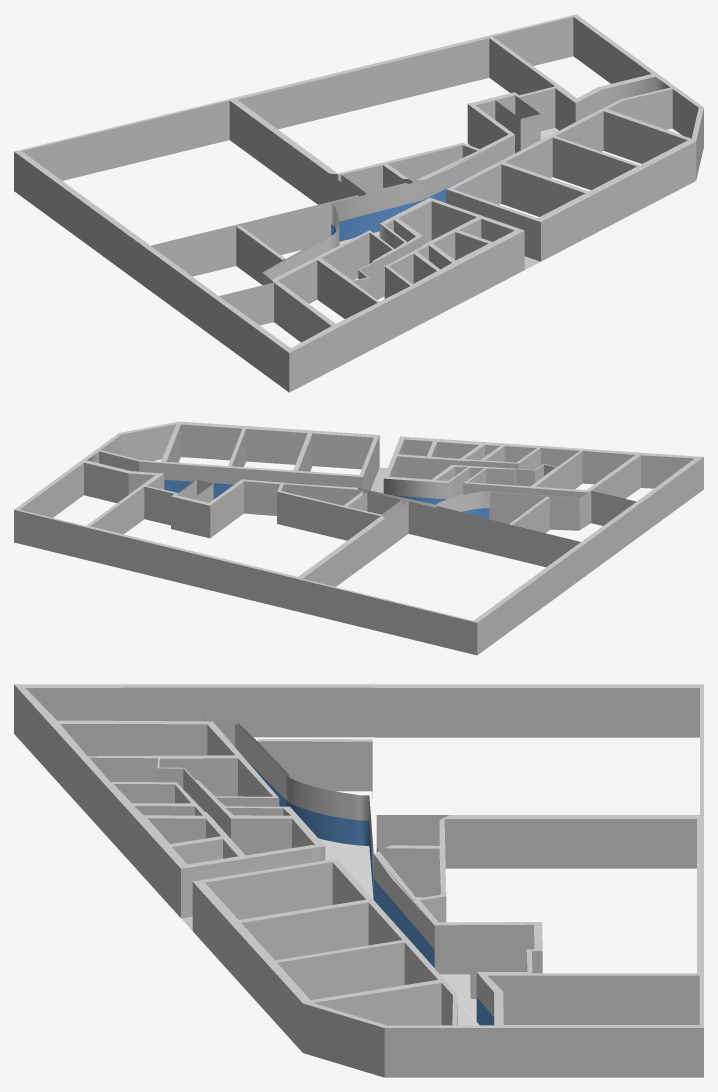
Rendered from RealRender.fbx.
3 views of the same model, one above another, from view 1: azimuth 30°, elevation 25°; view 2: azimuth 150°, elevation 25°; view 3: azimuth 270°, elevation 25° (orthographic). The views are drawn at different scales.
Parts seen in each view (by area): view 1: IPM_PlantaBaja_Plane; view 2: IPM_PlantaBaja_Plane; view 3: IPM_PlantaBaja_Plane.
Boxes of the visible parts, left/top/right/bottom form: IPM_PlantaBaja_Plane: left=14, top=14, right=703, bottom=392; IPM_PlantaBaja_Plane: left=14, top=421, right=703, bottom=655; IPM_PlantaBaja_Plane: left=14, top=684, right=703, bottom=1077.
Bounding box in the file's own units: 3716 × 256 × 3151.
